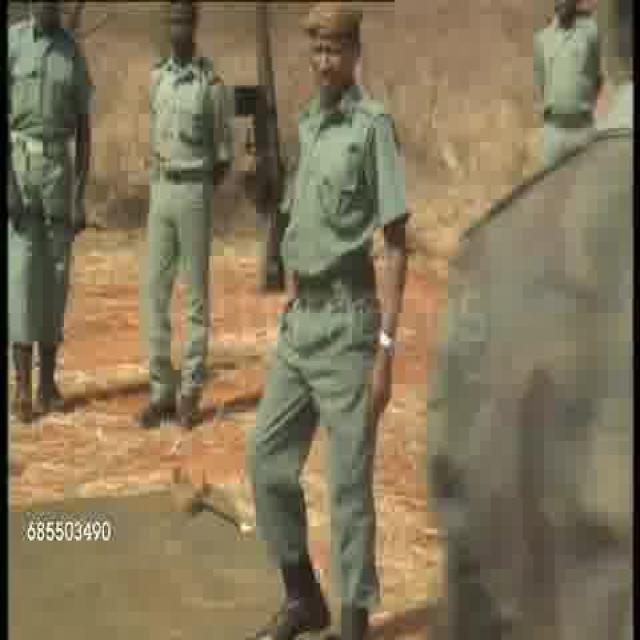poacher: (422, 71, 640, 602), (115, 2, 232, 440), (1, 2, 96, 432), (512, 1, 608, 154)
weapon: (227, 2, 290, 296)
